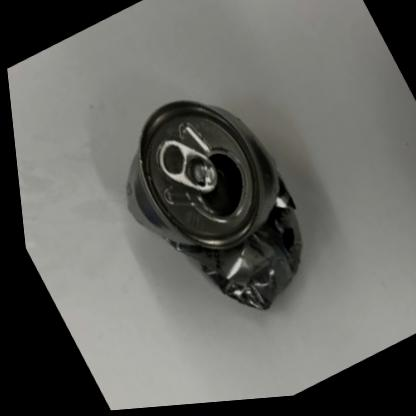Metal: (123, 104, 296, 311)
